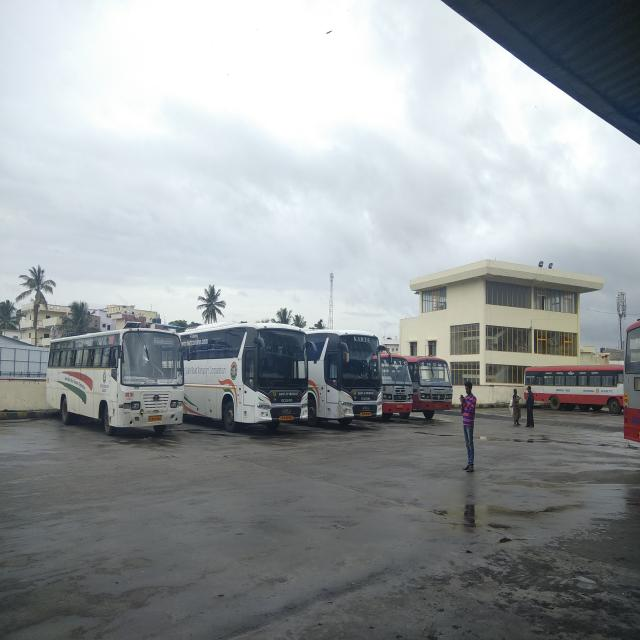BUS: (46, 302, 195, 443), (214, 307, 299, 429), (323, 327, 404, 425)
